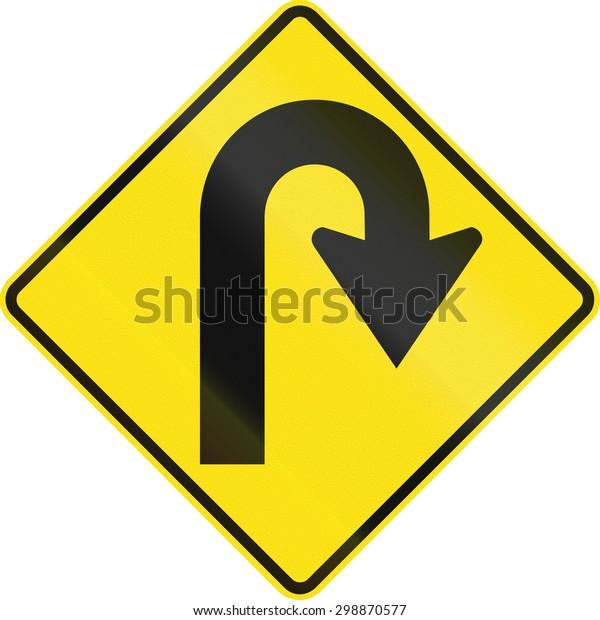Right Hair Pin Bend: (40, 30, 569, 554)
